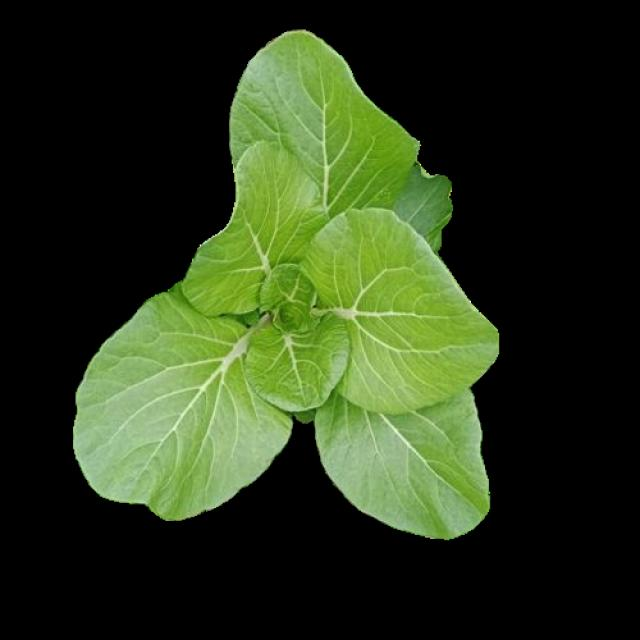healthy: (72, 29, 498, 539)
mature: (74, 32, 500, 541)
